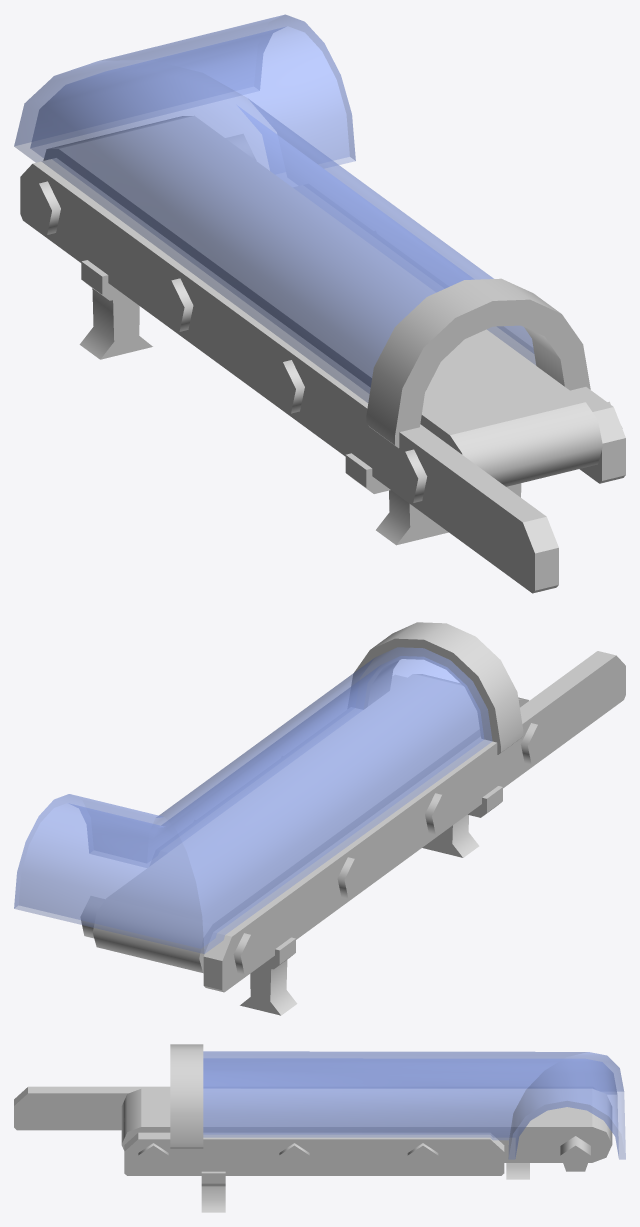
The model's file is factory_line_left.FBX.
3 views of the same model, one above another, from view 1: azimuth 30°, elevation 25°; view 2: azimuth 150°, elevation 25°; view 3: azimuth 270°, elevation 25° (orthographic). The views are drawn at different scales.
Parts seen in each view (by area): view 1: Box002, オブジェクト001; view 2: Box002, オブジェクト001; view 3: Box002, オブジェクト001.
Boxes of the visible parts, x1,y1,x2,y2 form: Box002: (20, 116, 625, 593); オブジェクト001: (14, 14, 535, 402); Box002: (80, 622, 625, 1015); オブジェクト001: (14, 647, 492, 953); Box002: (14, 1044, 612, 1212); オブジェクト001: (203, 1051, 625, 1159).
Bounding box in the file's own units: 165 × 151 × 586.
